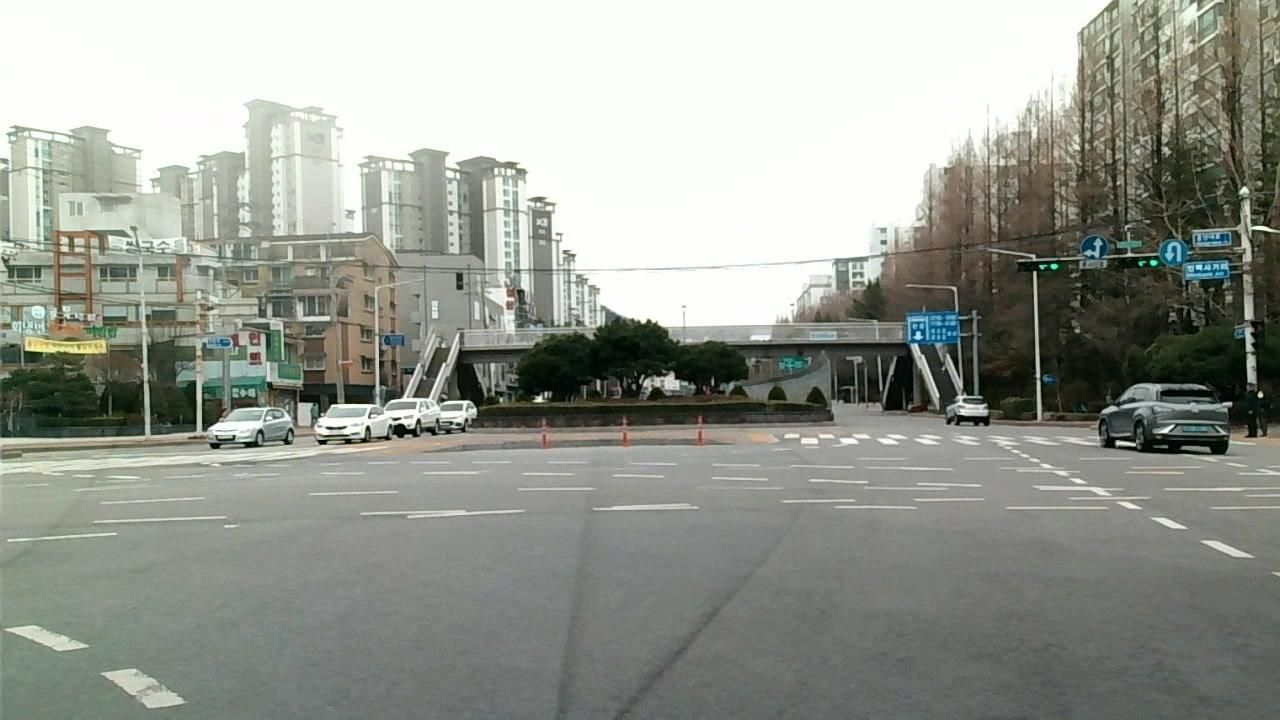vcrack: (584, 574, 740, 720)
